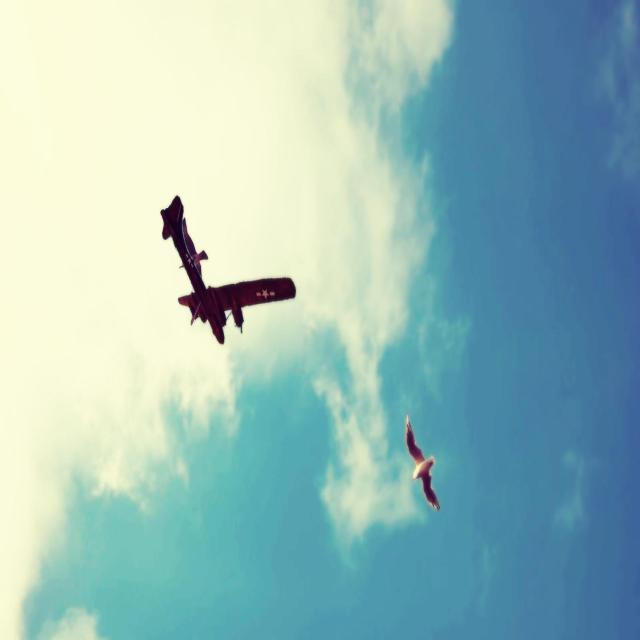airplane: (160, 194, 296, 344)
